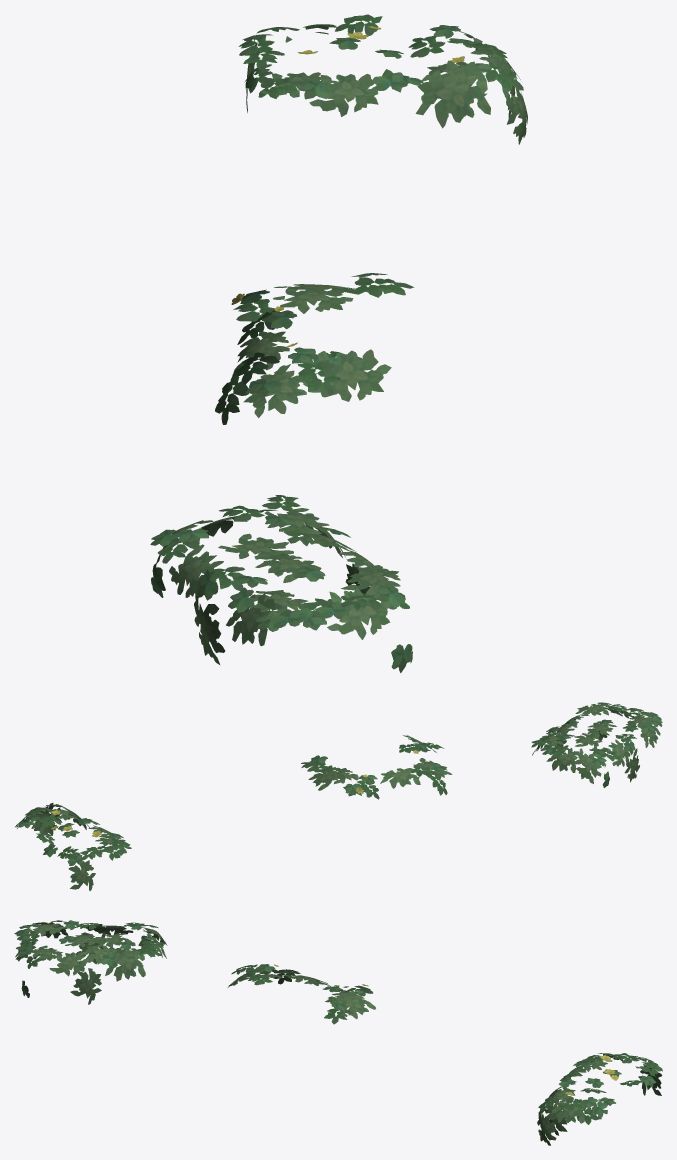
File: pref_sm_beach_bk_pointmol_grassplant05b_lv1.fbx
The picture shows the model from 3 angles, top to bottom: view 1: azimuth 30°, elevation 25°; view 2: azimuth 150°, elevation 25°; view 3: azimuth 270°, elevation 25°; orthographic projection. The views are drawn at different scales.
Parts seen in each view (by area): view 1: pref_sm_beach_bk_pointmol_grassplant05b_lv1; view 2: pref_sm_beach_bk_pointmol_grassplant05b_lv1; view 3: pref_sm_beach_bk_pointmol_grassplant05b_lv1.
Part boxes in pixels (left/top/right/bottom): pref_sm_beach_bk_pointmol_grassplant05b_lv1: left=150, top=14, right=527, bottom=673; pref_sm_beach_bk_pointmol_grassplant05b_lv1: left=15, top=702, right=662, bottom=890; pref_sm_beach_bk_pointmol_grassplant05b_lv1: left=14, top=920, right=662, bottom=1145.
Bounding box in the file's own units: 12.73 × 2.07 × 17.55.
